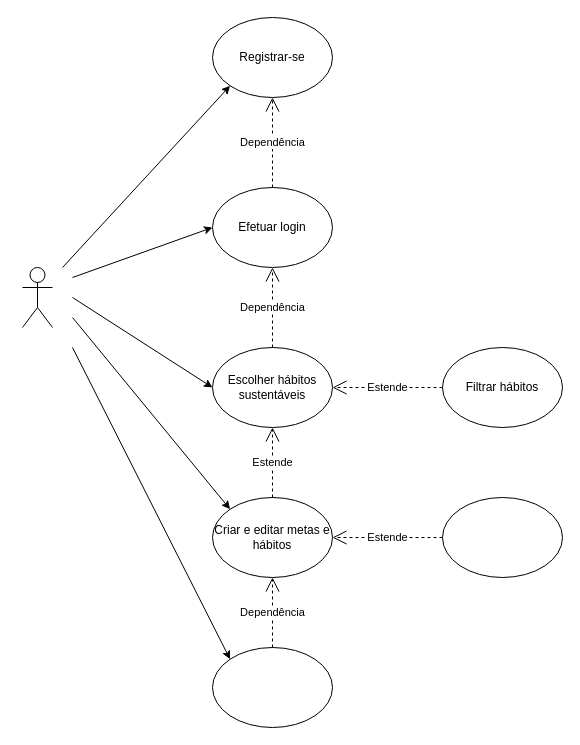
This 580x745 diagram has some shape labels left out. The shapes that lost their labels are listed below. From the top down, each one's centre as x and y in pixels, then its label:
(37,297): Usuário
(502,537): Rank de hábitos
(272,687): Verificar progresso das metas e hábitos
